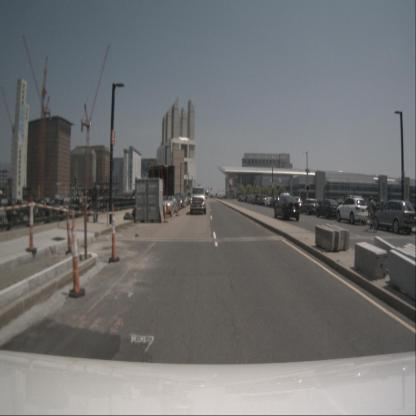cone: (69, 213, 85, 299), (109, 204, 120, 262), (26, 195, 37, 252), (66, 202, 74, 255), (163, 199, 169, 223), (176, 199, 180, 216)
